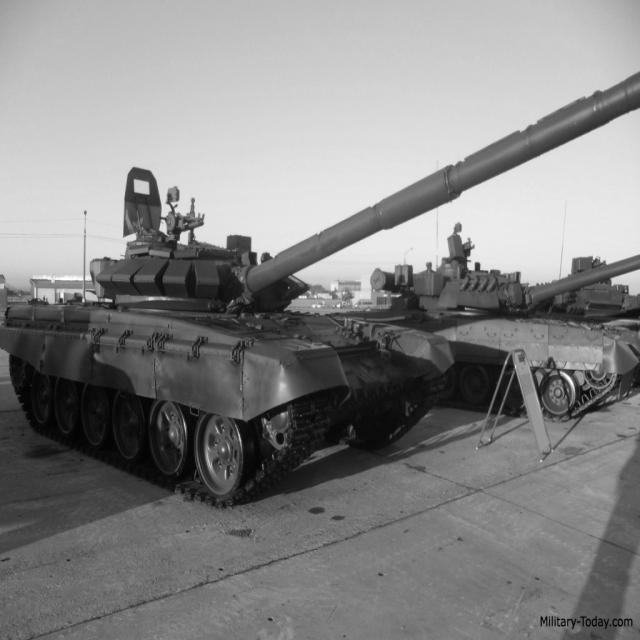Tank: (1, 66, 640, 504), (374, 229, 640, 422)
